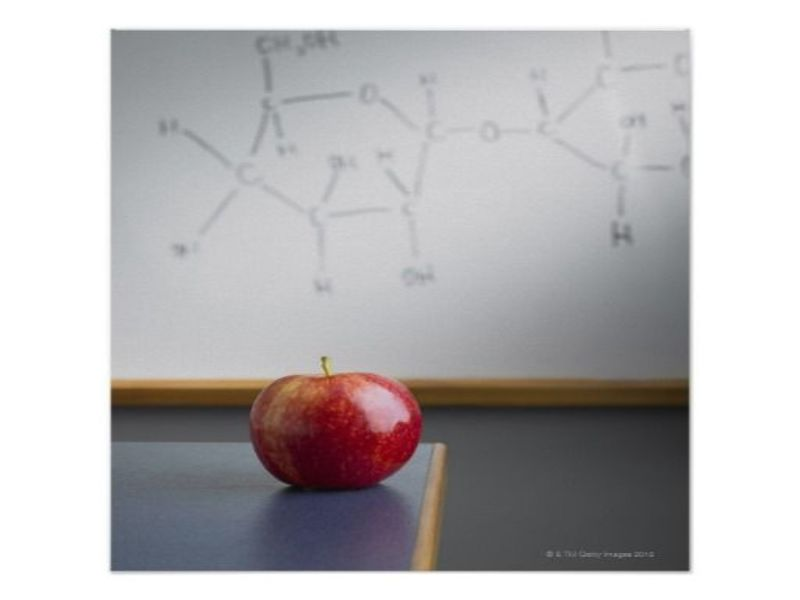apple: (246, 364, 420, 497)
